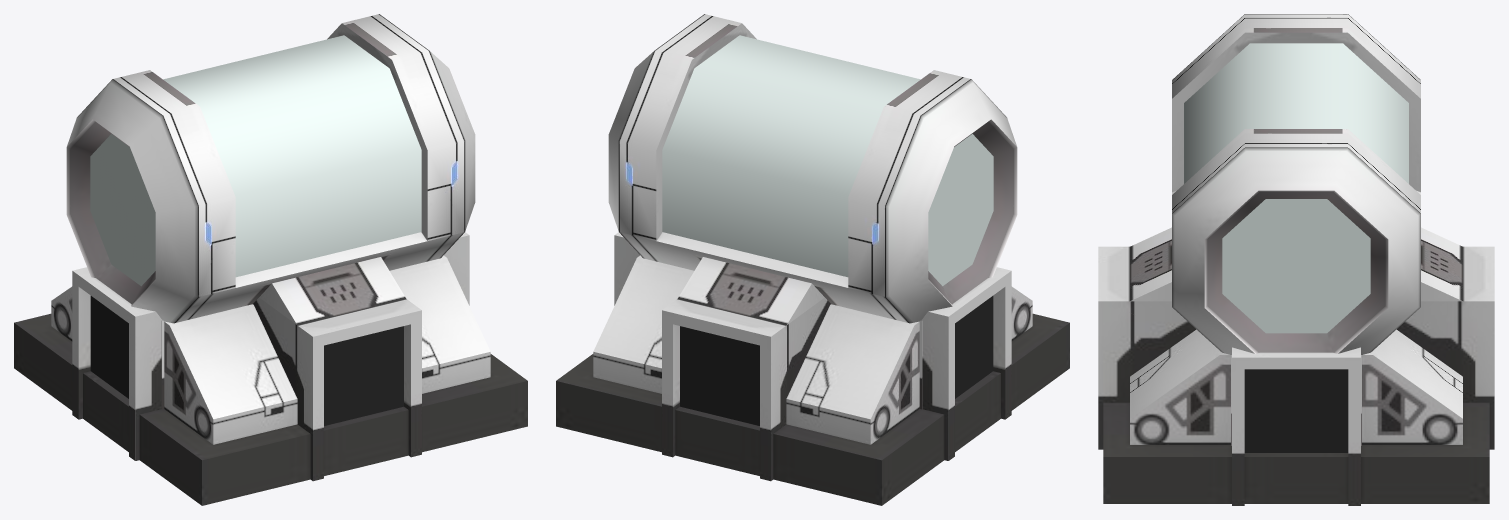
3 renders of one model, left to right at view 1: azimuth 30°, elevation 25°; view 2: azimuth 150°, elevation 25°; view 3: azimuth 270°, elevation 25°, orthographic. The views are drawn at different scales.
Visible parts, largest first — view 1: storage-tank-lod1; view 2: storage-tank-lod1; view 3: storage-tank-lod1.
Boxes of the visible parts, x1,y1,x2,y2 form: storage-tank-lod1: (14, 14, 527, 505); storage-tank-lod1: (556, 14, 1069, 505); storage-tank-lod1: (1098, 14, 1494, 505).
Size of the model in its own units: 4.6 by 4.4 by 4.6.
Materials: 3 (1 with a texture image).
